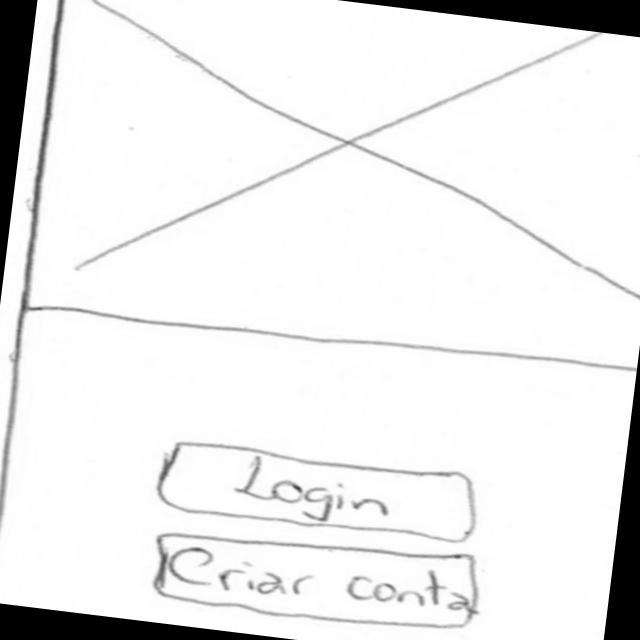button: (149, 515, 489, 640), (149, 433, 496, 552)
container: (1, 293, 637, 640)
image: (8, 1, 640, 381)
